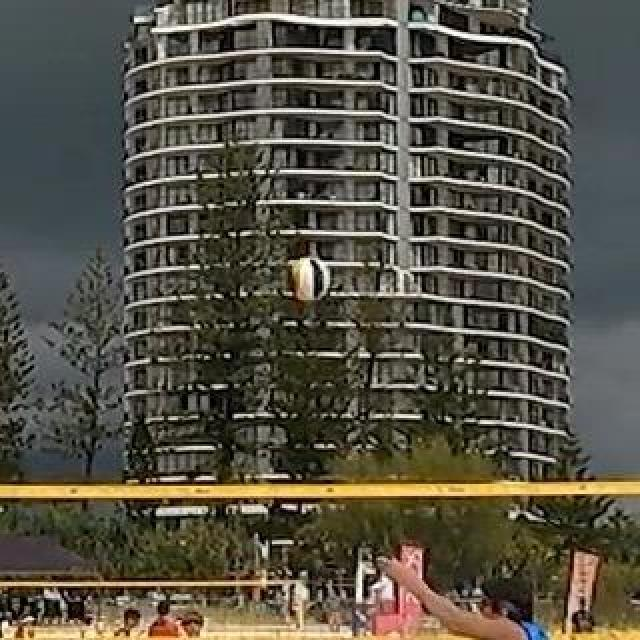volleyball: (289, 258, 329, 300)
